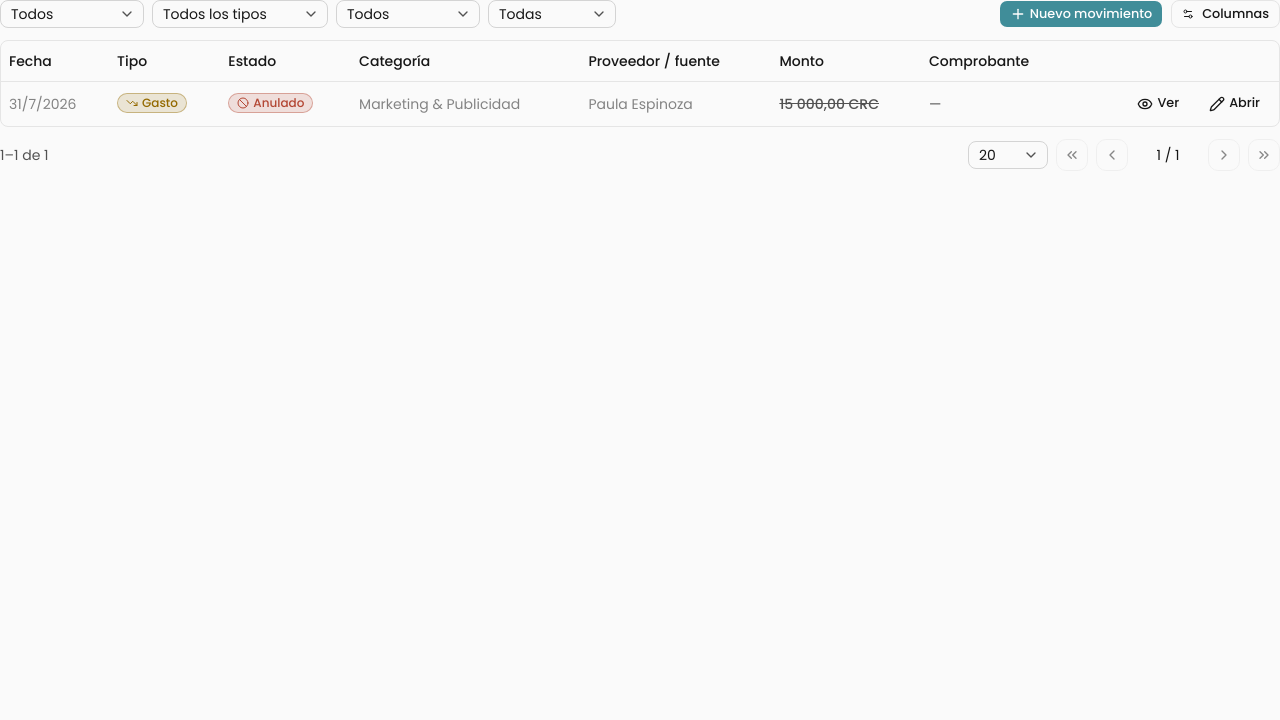
Test case: FinanceEntriesTable — el detalle de un anulado explica la anulación › muestra motivo, fecha y quién
This screenshot has width=1280, height=720.
Step 1. Click the text "Paula Espinoza" → x=640, y=103, box [1,81,1279,126]
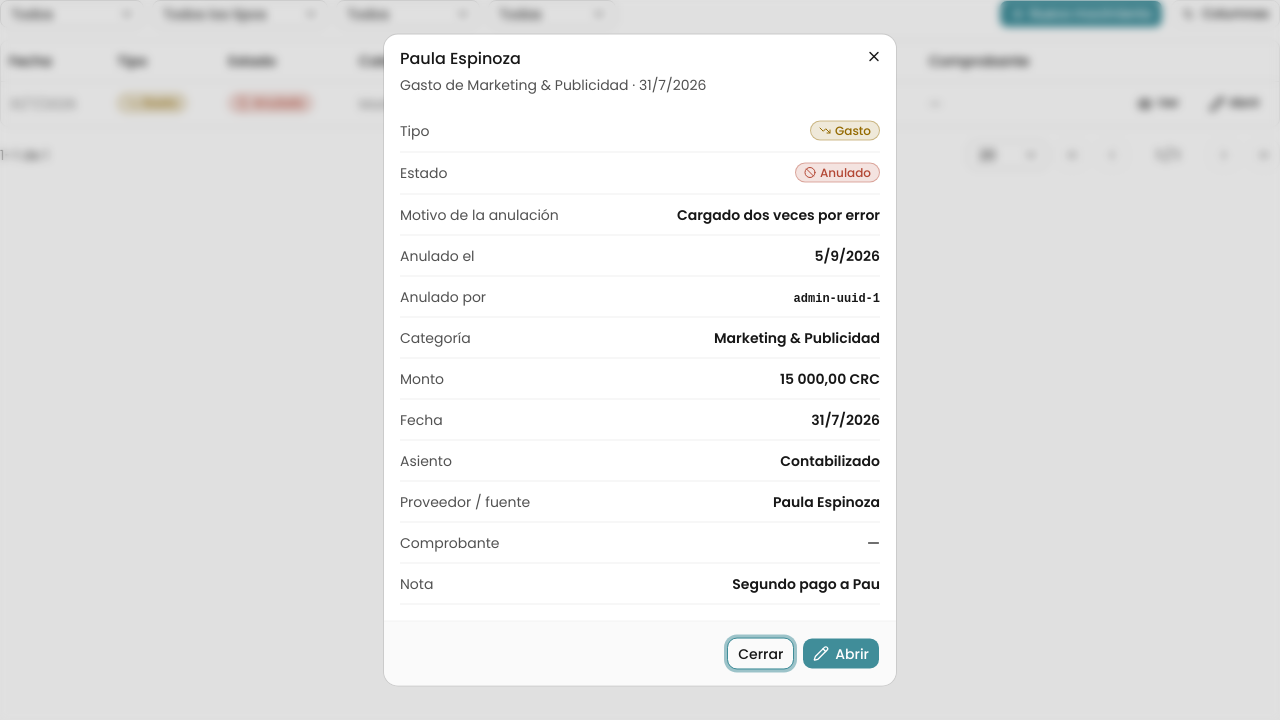
Expected: the dialog is shown, [384,34,896,686]
Expected: the text "Cargado dos veces por error" is shown, [677,204,880,224]
Expected: the text "5/9/2026" is shown, [814,246,880,266]
